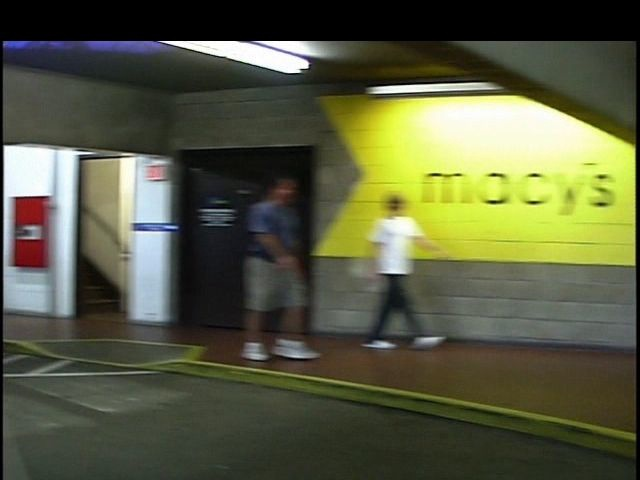person: (221, 170, 316, 366), (340, 185, 427, 361)
